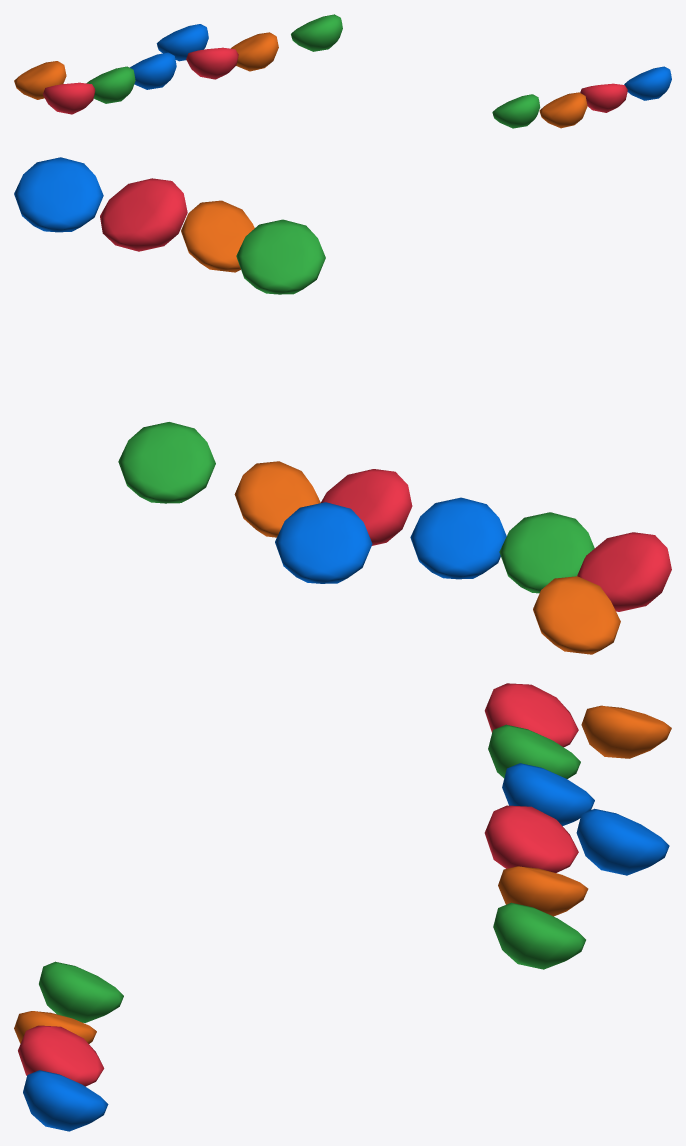
Rendered from beanBags.glb.
3 renders of one model, top to bottom at view 1: azimuth 30°, elevation 25°; view 2: azimuth 150°, elevation 25°; view 3: azimuth 270°, elevation 25°, orthographic. The views are drawn at different scales.
Visible parts, largest first — view 1: Beanbags_green.001, Beanbags_orange.001, Beanbags_red.001, Beanbags_orange, Beanbags_red, Beanbags_green, Beanbags_blue, Beanbags_blue.001, Beanbags_orange.002, Beanbags_green.002, Beanbags_blue.002, Beanbags_red.002; view 2: Beanbags_green.001, Beanbags_blue.001, Beanbags_blue, Beanbags_green, Beanbags_red, Beanbags_orange, Beanbags_green.002, Beanbags_blue.002, Beanbags_red.002, Beanbags_orange.001, Beanbags_red.001, Beanbags_orange.002; view 3: Beanbags_red.001, Beanbags_blue.001, Beanbags_green.001, Beanbags_red, Beanbags_blue.002, Beanbags_red.002, Beanbags_blue, Beanbags_green.002, Beanbags_orange, Beanbags_green, Beanbags_orange.001, Beanbags_orange.002.
Part boxes in pixels (bbox=[...]): Beanbags_green.001: bbox=[291, 14, 342, 51]; Beanbags_orange.001: bbox=[231, 32, 278, 71]; Beanbags_red.001: bbox=[186, 47, 238, 79]; Beanbags_orange: bbox=[14, 61, 66, 99]; Beanbags_red: bbox=[43, 82, 95, 114]; Beanbags_green: bbox=[86, 66, 135, 103]; Beanbags_blue: bbox=[130, 52, 176, 89]; Beanbags_blue.001: bbox=[156, 24, 208, 61]; Beanbags_orange.002: bbox=[539, 92, 587, 128]; Beanbags_green.002: bbox=[492, 94, 540, 128]; Beanbags_blue.002: bbox=[624, 66, 671, 100]; Beanbags_red.002: bbox=[580, 83, 627, 112]; Beanbags_green.001: bbox=[118, 422, 215, 503]; Beanbags_blue.001: bbox=[275, 502, 372, 583]; Beanbags_blue: bbox=[410, 497, 506, 579]; Beanbags_green: bbox=[499, 512, 594, 593]; Beanbags_red: bbox=[577, 532, 671, 611]; Beanbags_orange: bbox=[533, 576, 620, 654]; Beanbags_green.002: bbox=[236, 219, 325, 294]; Beanbags_blue.002: bbox=[14, 157, 103, 232]; Beanbags_red.002: bbox=[100, 178, 187, 251]; Beanbags_orange.001: bbox=[234, 461, 320, 537]; Beanbags_red.001: bbox=[321, 469, 412, 545]; Beanbags_orange.002: bbox=[181, 200, 254, 272]; Beanbags_red.001: bbox=[484, 805, 578, 872]; Beanbags_blue.001: bbox=[576, 808, 669, 875]; Beanbags_green.001: bbox=[493, 902, 585, 969]; Beanbags_red: bbox=[484, 683, 578, 747]; Beanbags_blue.002: bbox=[23, 1070, 108, 1131]; Beanbags_red.002: bbox=[18, 1025, 104, 1086]; Beanbags_blue: bbox=[502, 763, 594, 826]; Beanbags_green.002: bbox=[39, 961, 123, 1022]; Beanbags_orange: bbox=[581, 705, 671, 758]; Beanbags_green: bbox=[488, 724, 580, 778]; Beanbags_orange.001: bbox=[498, 866, 588, 916]; Beanbags_orange.002: bbox=[14, 1011, 96, 1043].
Bounding box in the file's own units: 12.69 × 0.9241 × 8.45.
